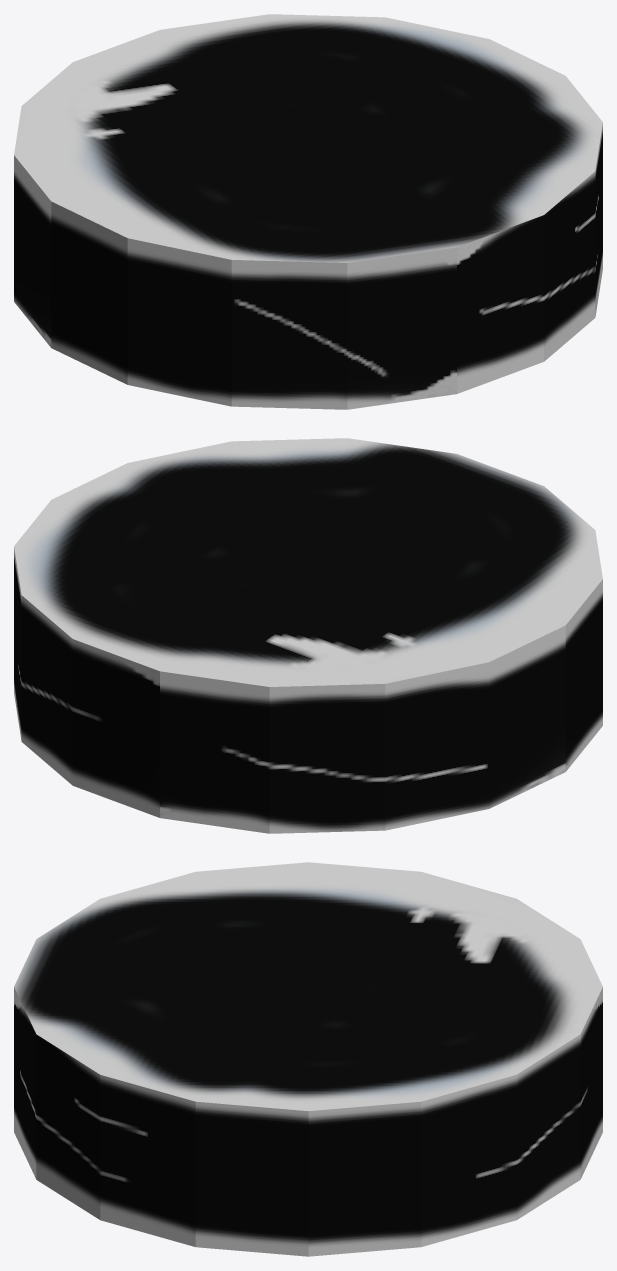
Rendered from robotWheel.fbx.
3 renders of one model, top to bottom at view 1: azimuth 30°, elevation 25°; view 2: azimuth 150°, elevation 25°; view 3: azimuth 270°, elevation 25°, orthographic.
Visible parts, largest first — view 1: Cube.001; view 2: Cube.001; view 3: Cube.001.
Boxes of the visible parts, left/top/right/bottom form: Cube.001: left=14, top=14, right=602, bottom=409; Cube.001: left=14, top=438, right=602, bottom=833; Cube.001: left=14, top=862, right=602, bottom=1256.
Size of the model in its own units: 127 by 34.52 by 127.
Materials: 1 (1 with a texture image).
